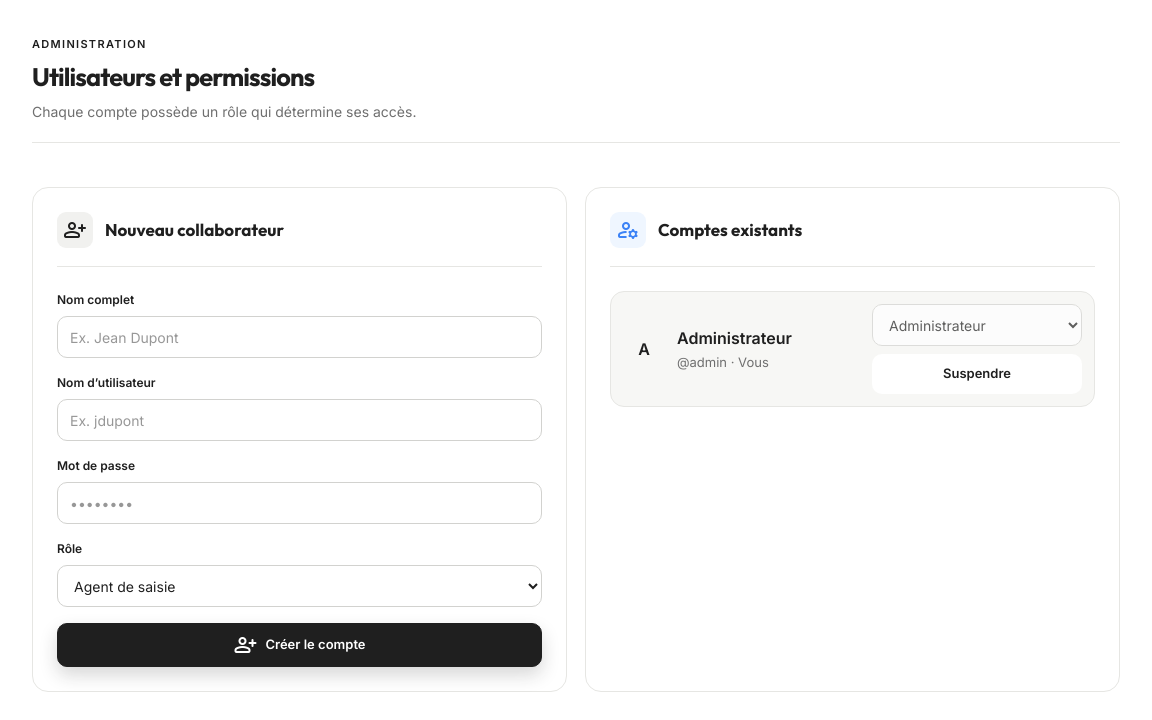
Test: UserManagementPage › re-enables account creation after a network failure
Check: the text "@admin · Vous" is shown, box left=677, top=354, right=769, bottom=370
Step 1. Type "Jean Dupont" into the field labelled "Nom complet" → (300, 337), box left=57, top=316, right=542, bottom=358
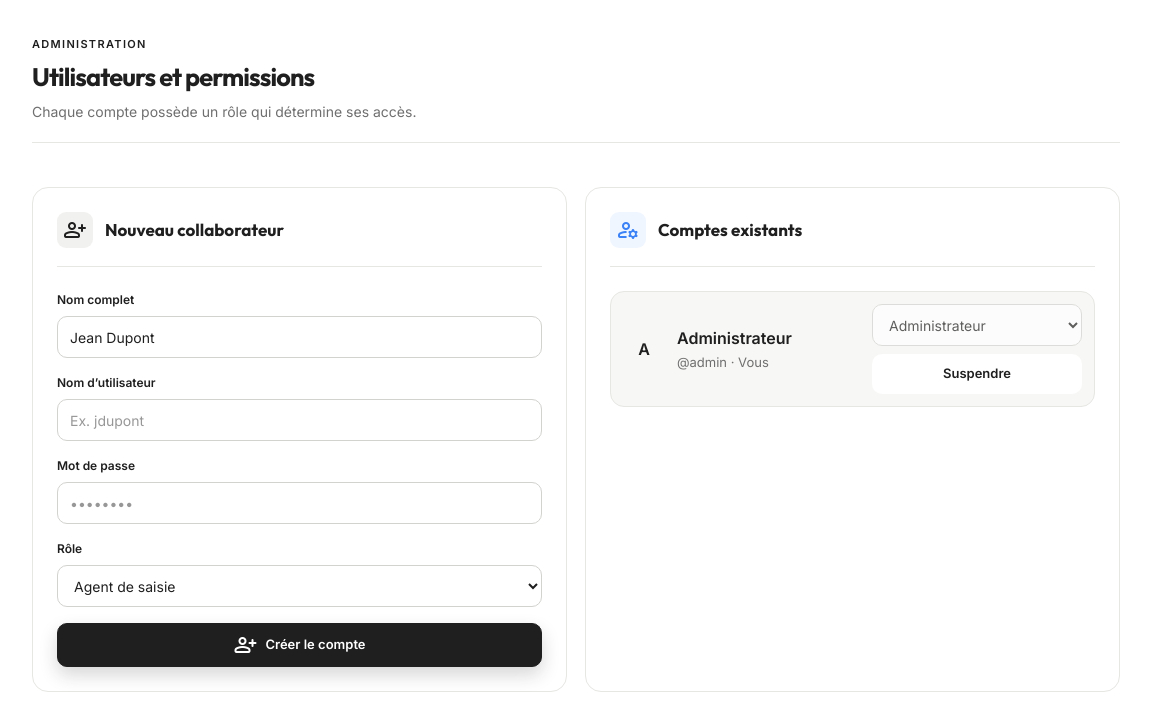
Step 2. Type "jdupont" into the field labelled "Nom d’utilisateur" → (300, 420), box left=57, top=399, right=542, bottom=441
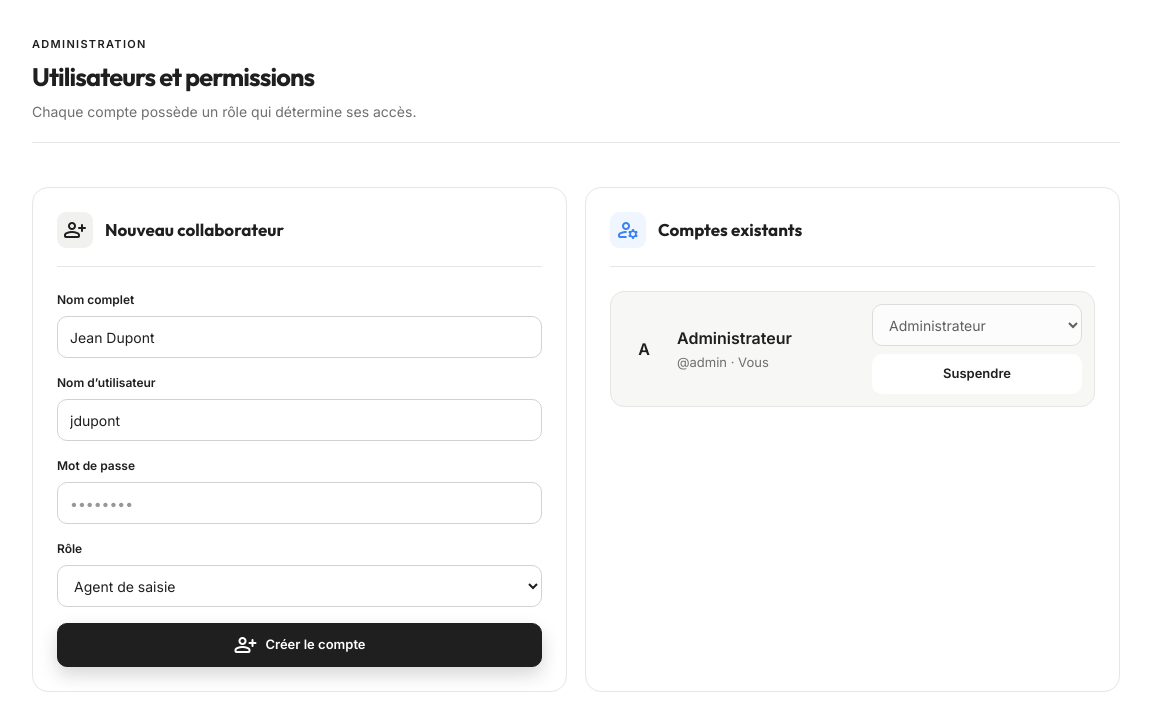
Step 3. Type "mot-de-passe" into the password field labelled "Mot de passe" → (300, 503), box left=57, top=482, right=542, bottom=524
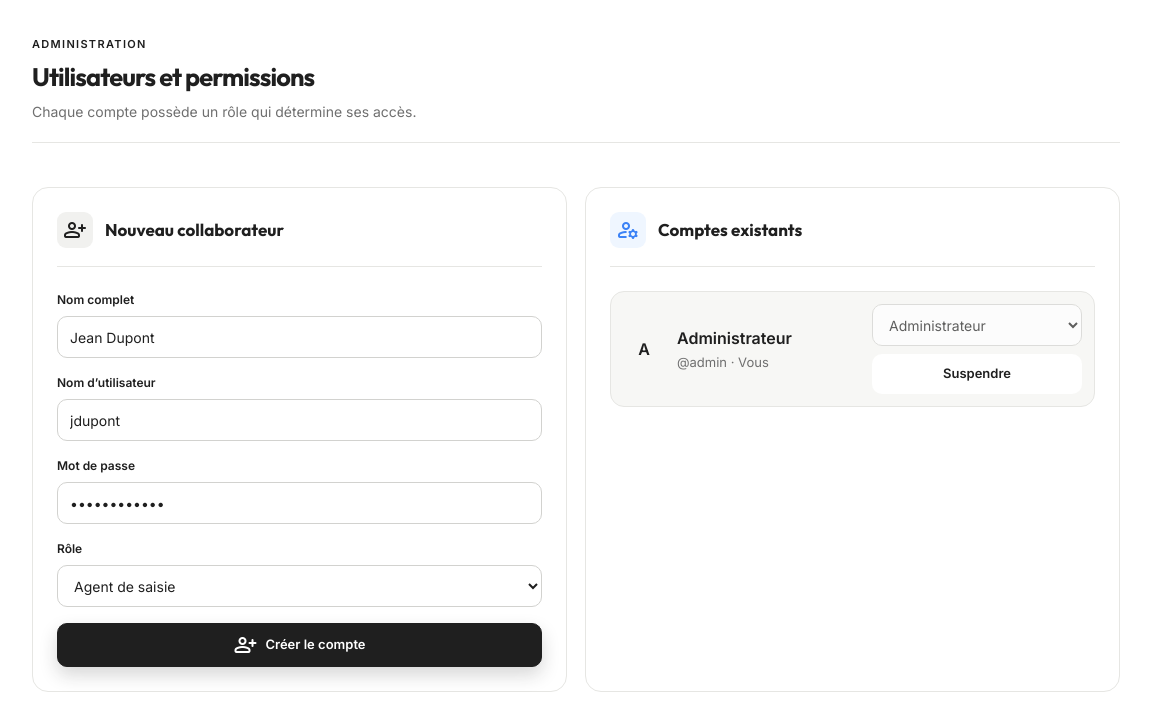
Step 4. Click the button "Créer le compte" → (300, 645), box left=57, top=623, right=542, bottom=667
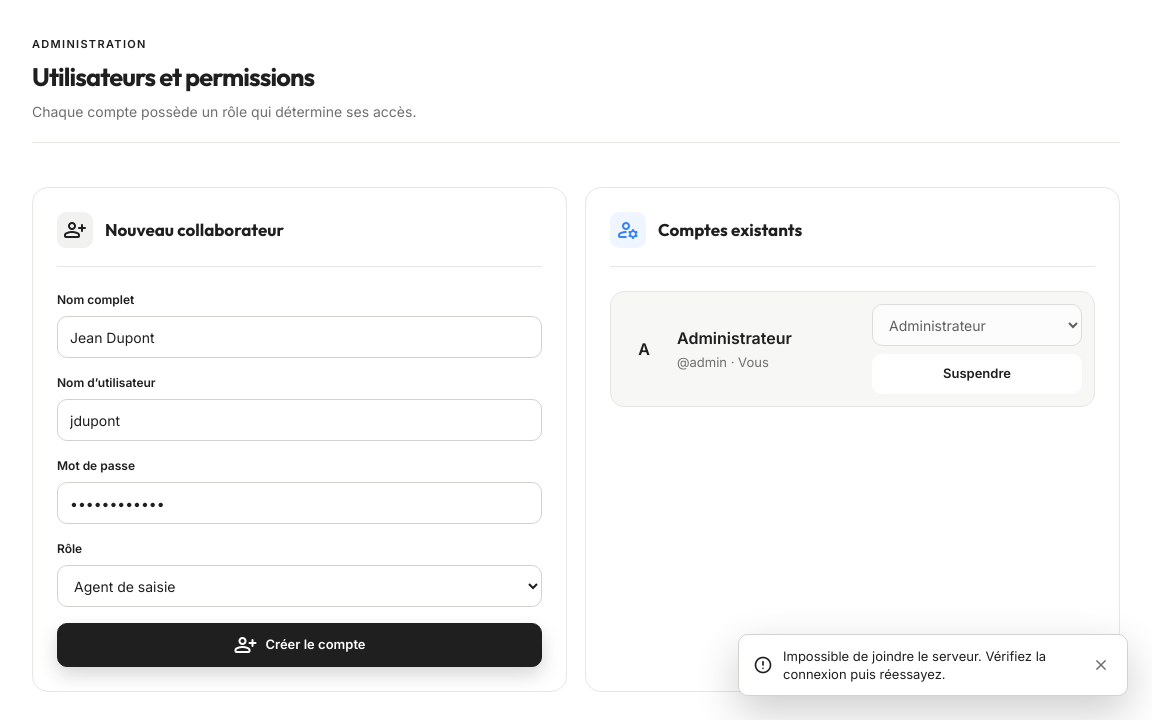
Check: the text "Impossible de joindre le serveur. Vérifiez la connexion puis réessayez." is shown, box left=783, top=647, right=1077, bottom=683
Step 5. Click the button "Créer le compte" → (300, 645), box left=57, top=623, right=542, bottom=667
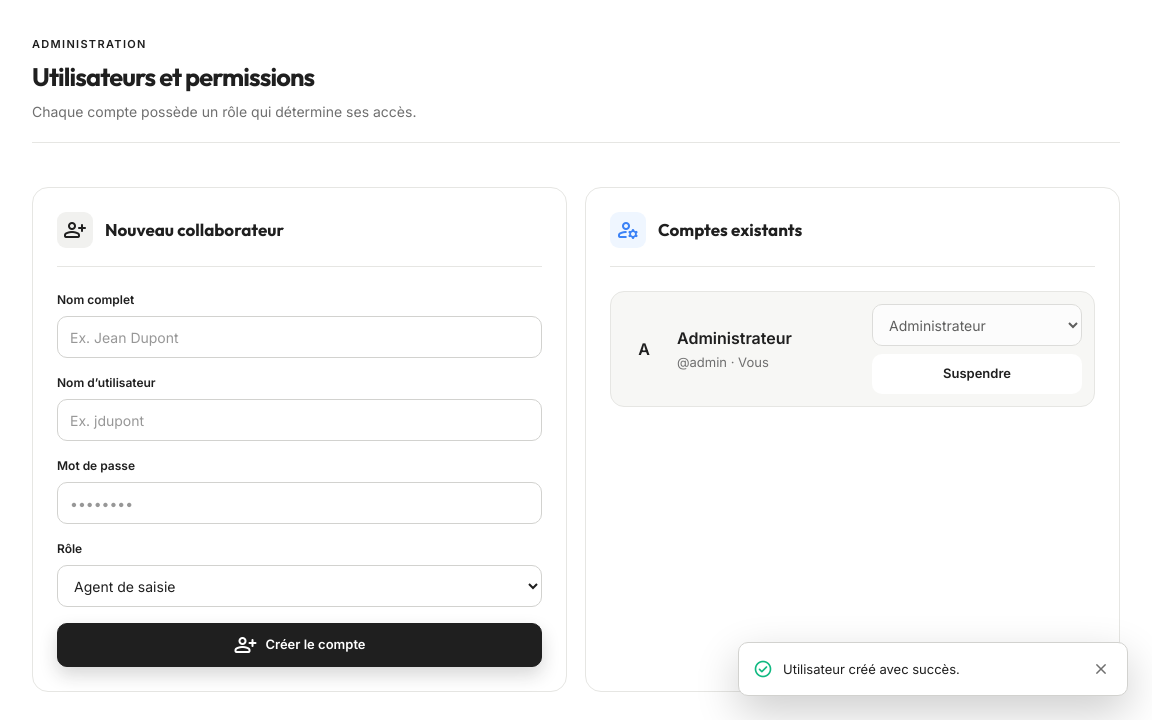
Check: the text "Utilisateur créé avec succès." is shown, box left=783, top=661, right=960, bottom=677
